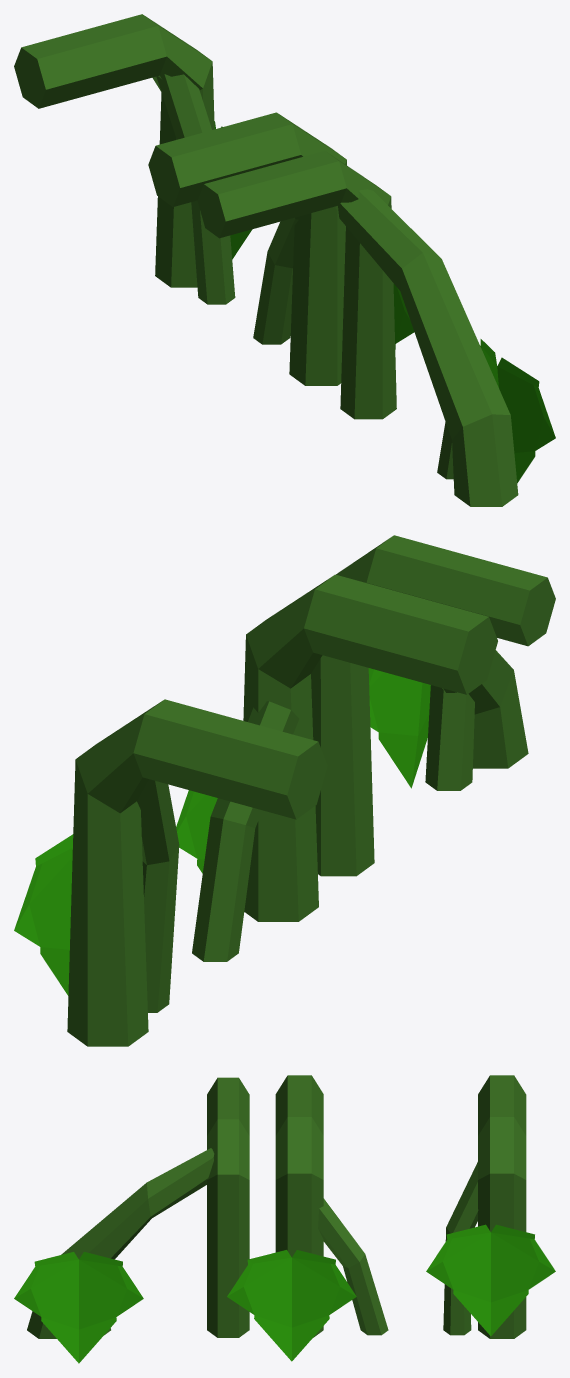
File: Vine start.fbx
3 renders of one model, top to bottom at view 1: azimuth 30°, elevation 25°; view 2: azimuth 150°, elevation 25°; view 3: azimuth 270°, elevation 25°, orthographic. The views are drawn at different scales.
Parts seen in each view (by area): view 1: vine start; view 2: vine start; view 3: vine start.
Part boxes in pixels (<box>): vine start: <box>14,14,555,506</box>; vine start: <box>14,535,555,1046</box>; vine start: <box>14,1075,555,1363</box>.
Bounding box in the file's own units: 0.1849 × 0.2497 × 0.5627.
